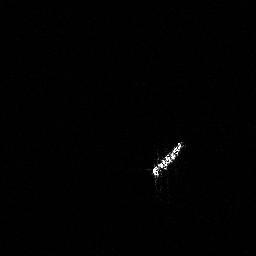ship: (147, 137, 188, 181)
